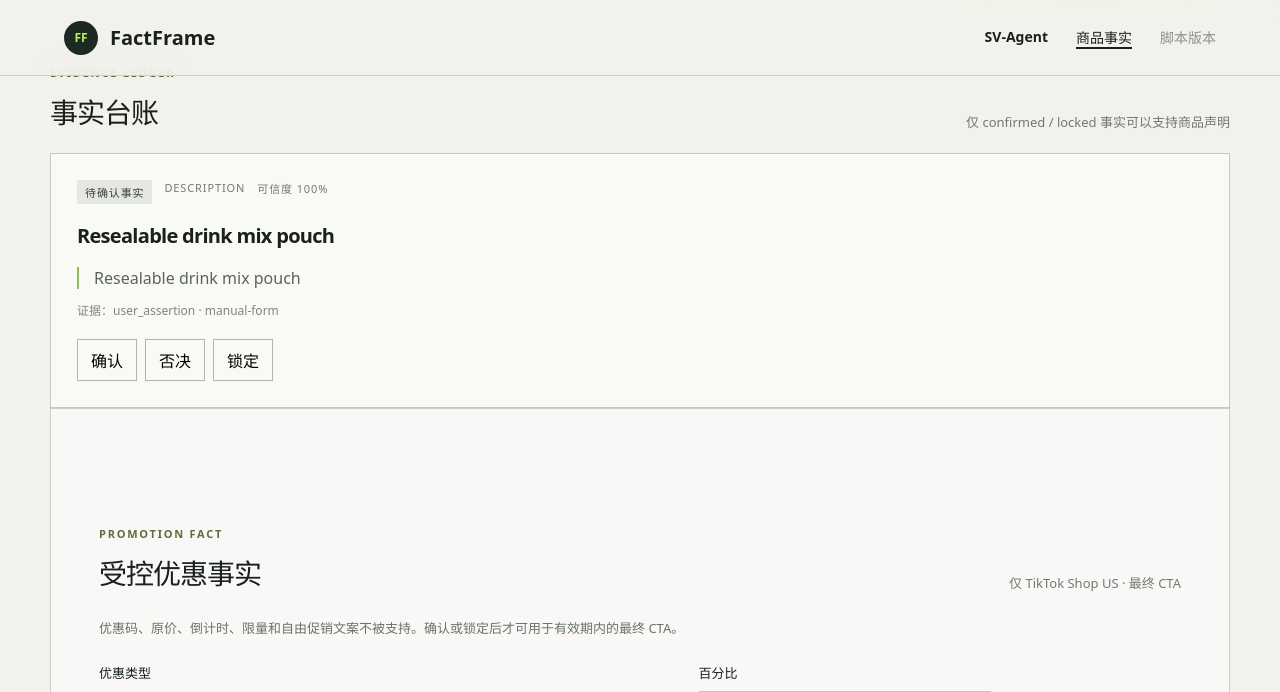
product facts workspace › shows a locked fact conflict beside the fact
The image size is (1280, 692).
(page scrolled)
Click the button "锁定" at (243, 360), box top-left (213, 339), bottom-right (273, 381)
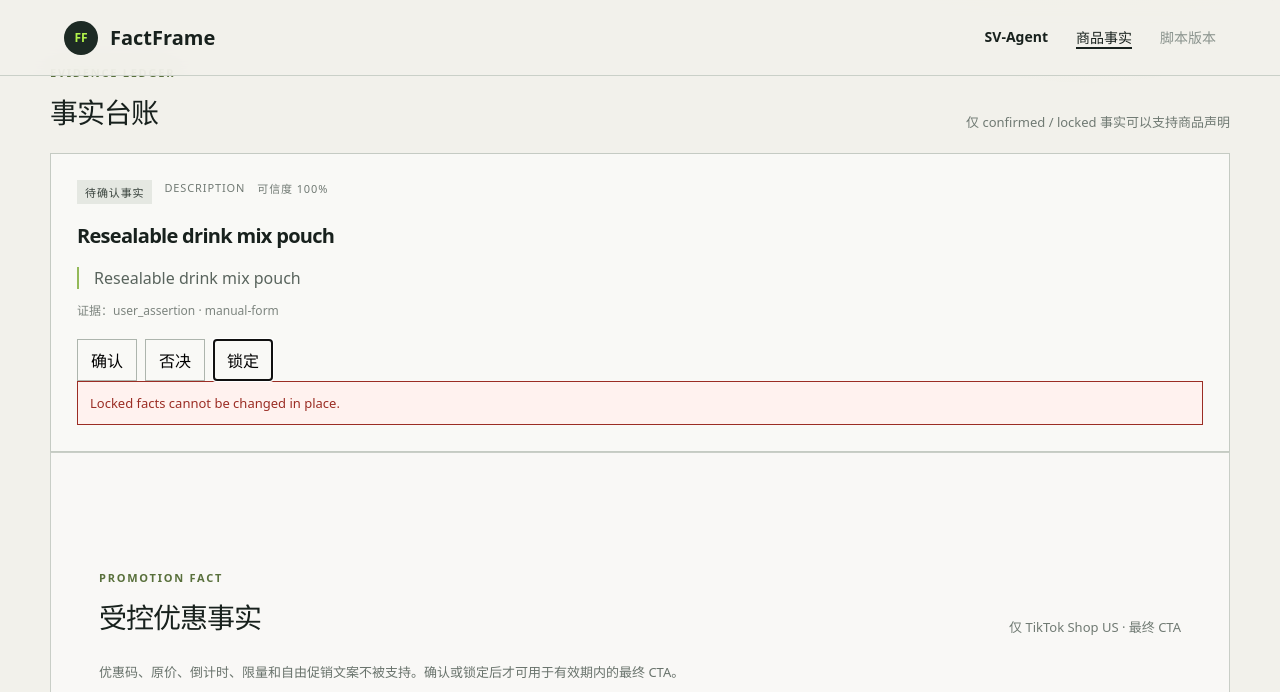
Now the message reads "Locked facts cannot be changed in place.", box top-left (90, 394), bottom-right (340, 412)
